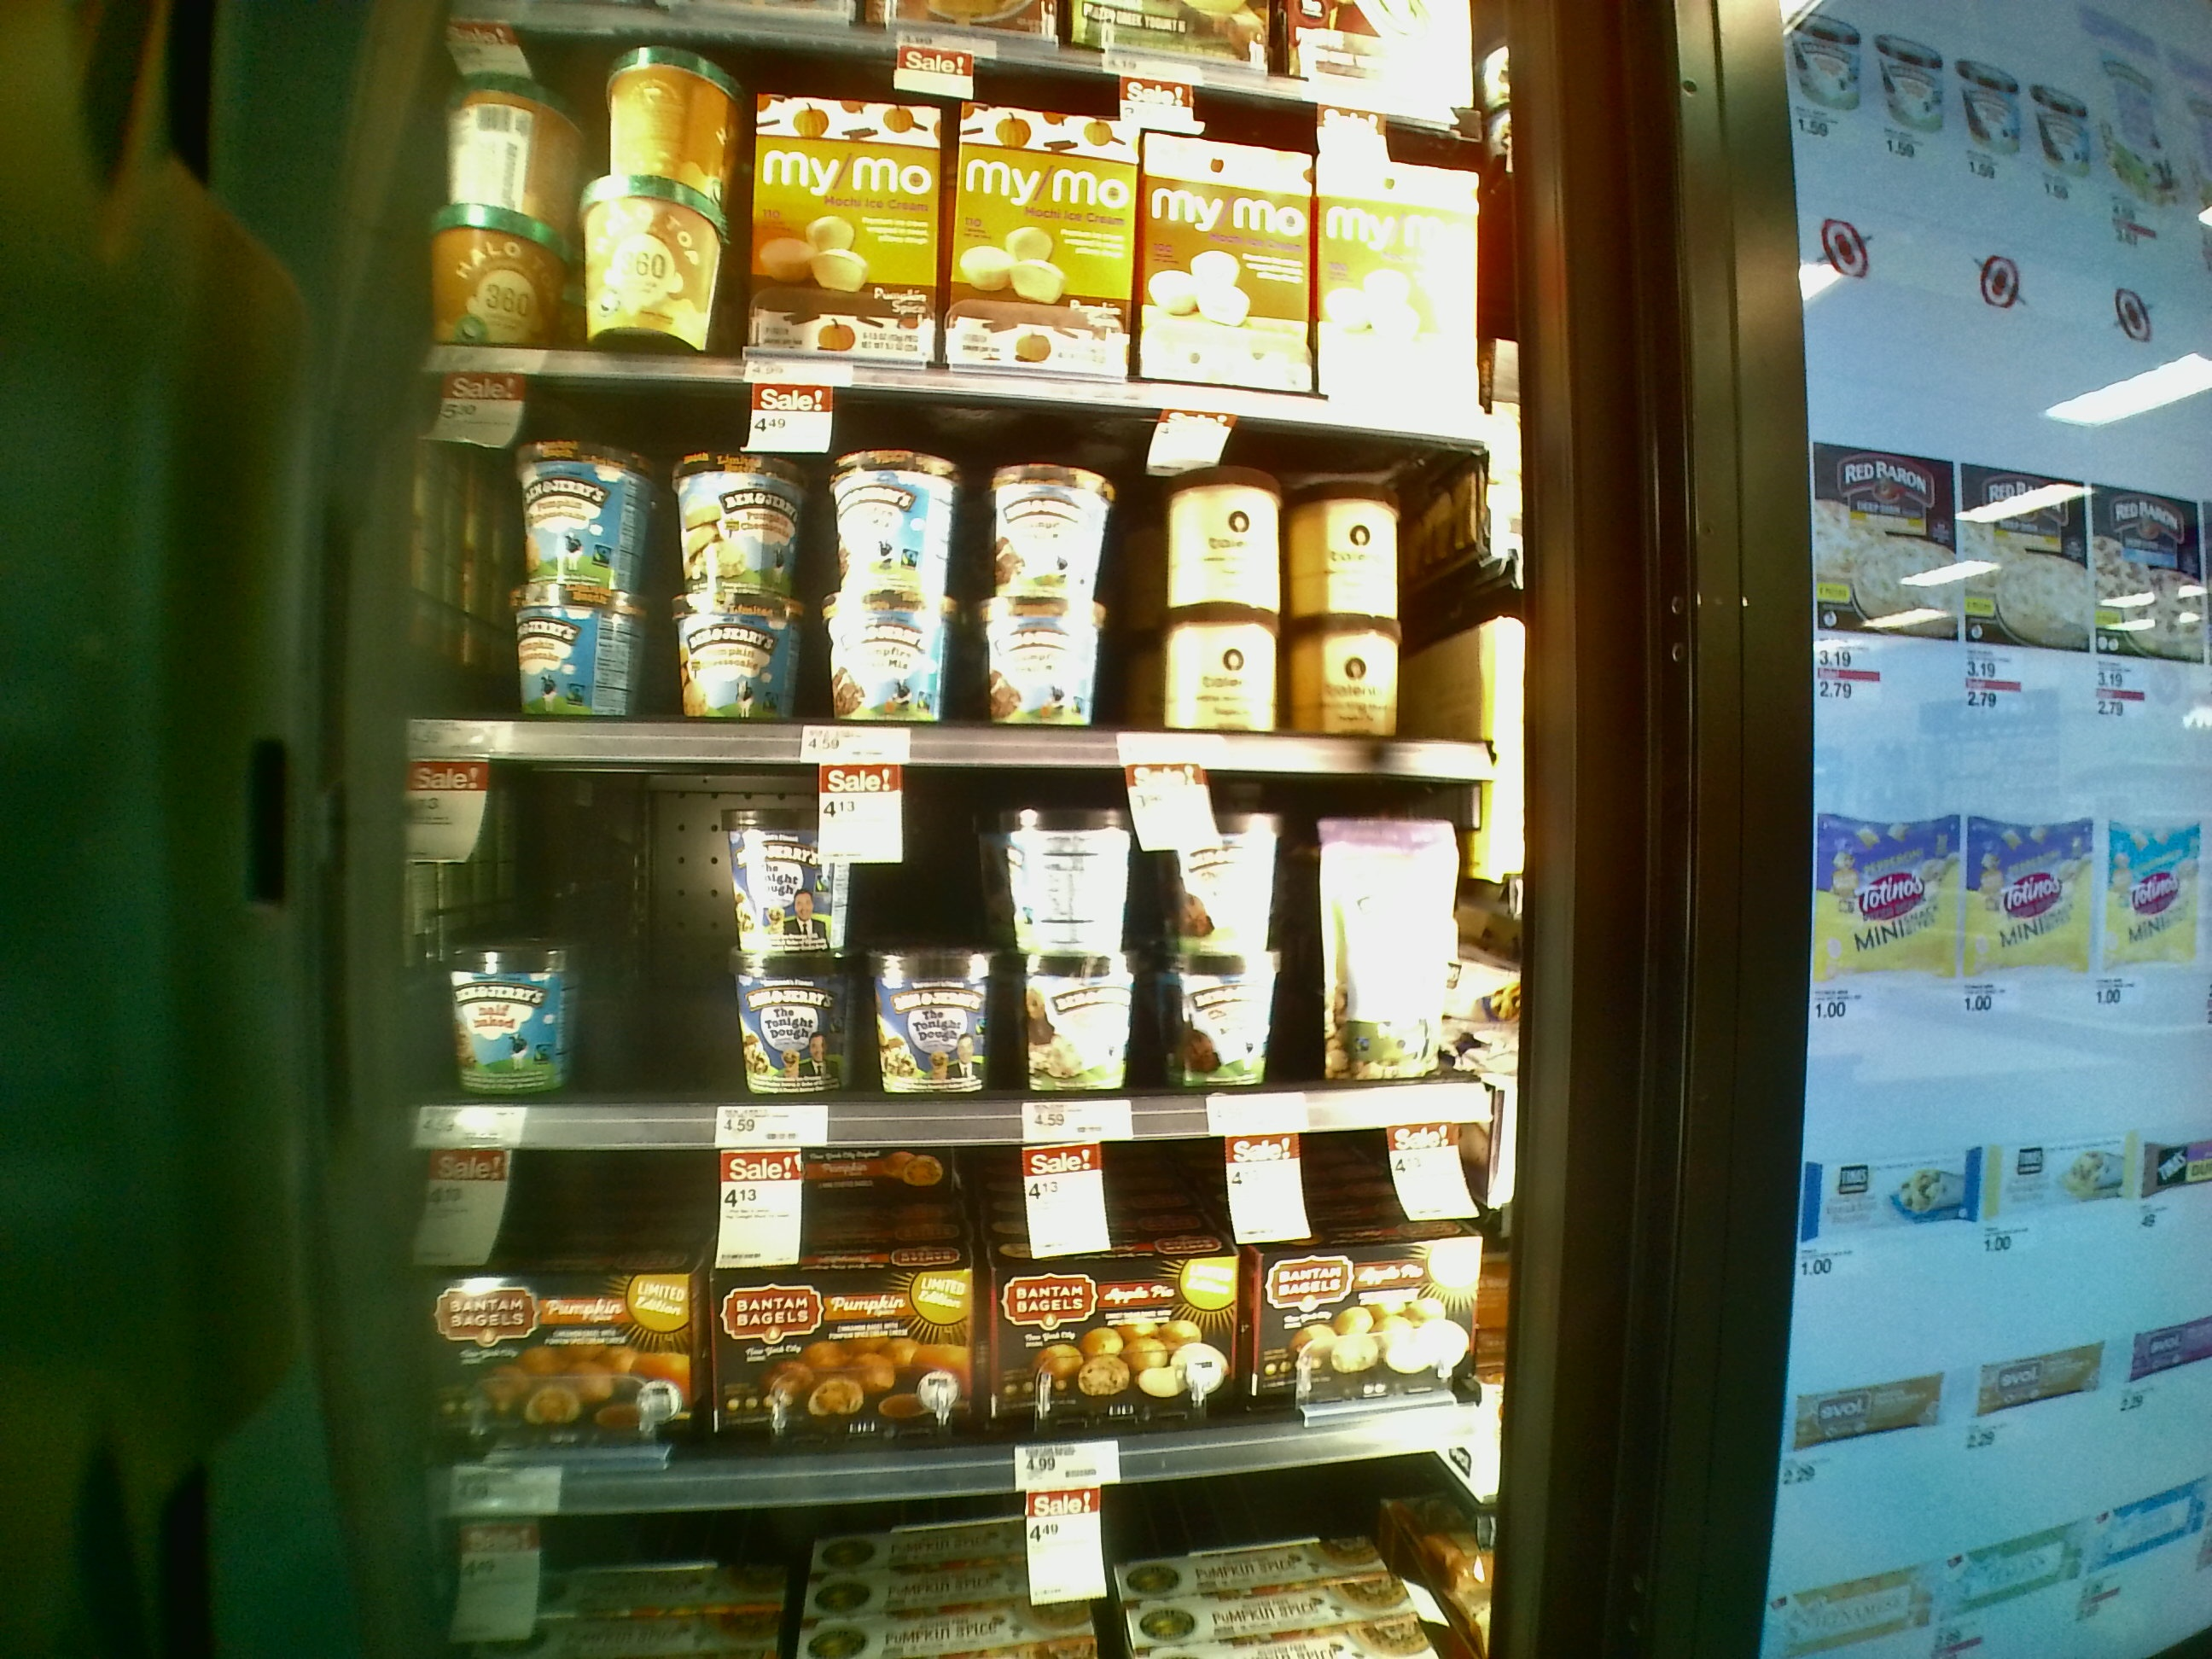shelf: (388, 369, 1503, 779), (371, 774, 1529, 1148), (371, 1133, 1514, 1481)
